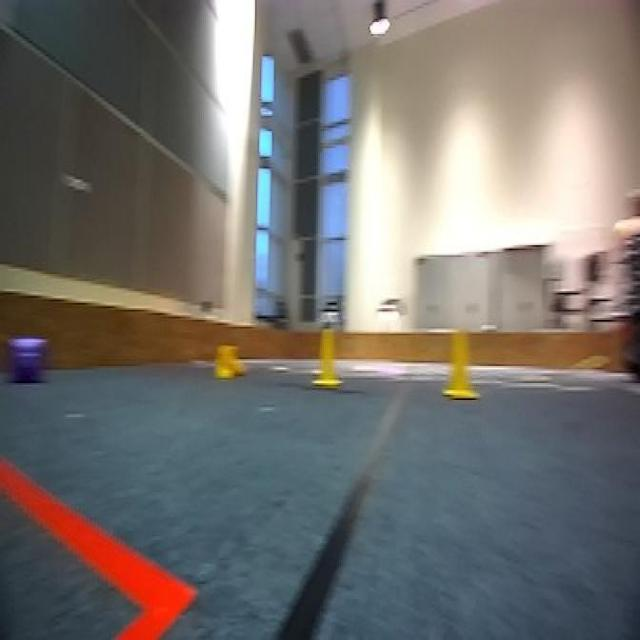frc_cone: (434, 322, 487, 402), (310, 324, 348, 386), (212, 344, 248, 381)
frc_cube: (8, 334, 48, 384)
